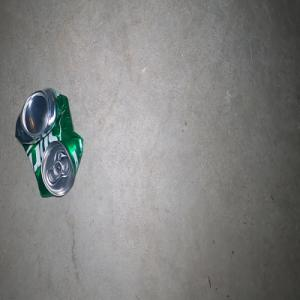SodaCan: (15, 87, 83, 197)
